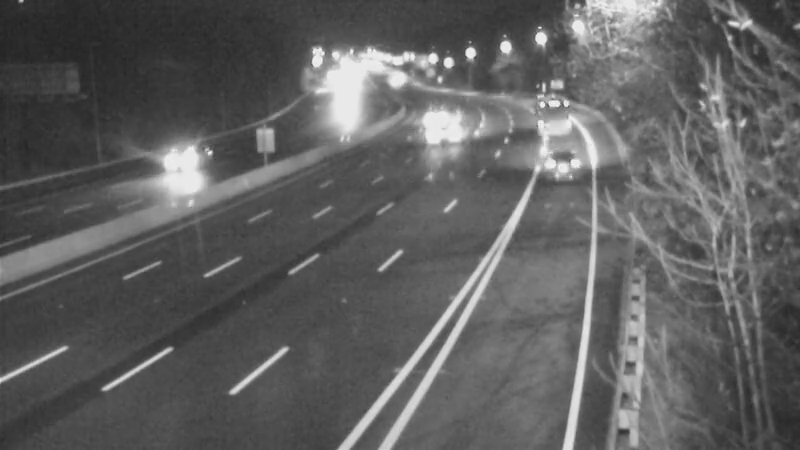vehicle: (519, 123, 599, 203), (134, 119, 214, 199), (529, 89, 579, 139), (409, 89, 459, 139), (418, 112, 468, 162)
